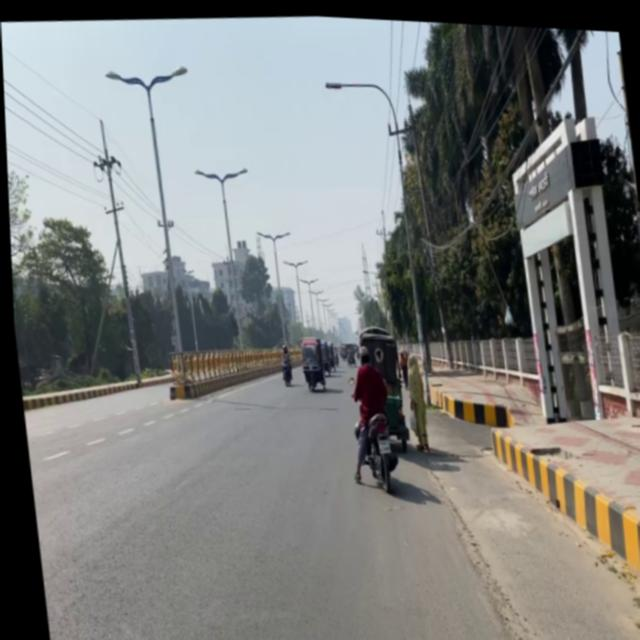Construction-barrier: (482, 402, 640, 609), (16, 362, 170, 415), (421, 372, 510, 427)
Fallen-tree: (342, 346, 352, 363)
Garbage-bin: (336, 343, 393, 479), (274, 341, 290, 383)
Motorcycle: (525, 438, 557, 452)
Pothole: (404, 344, 640, 640)
Traffic-cone: (353, 319, 407, 450)
